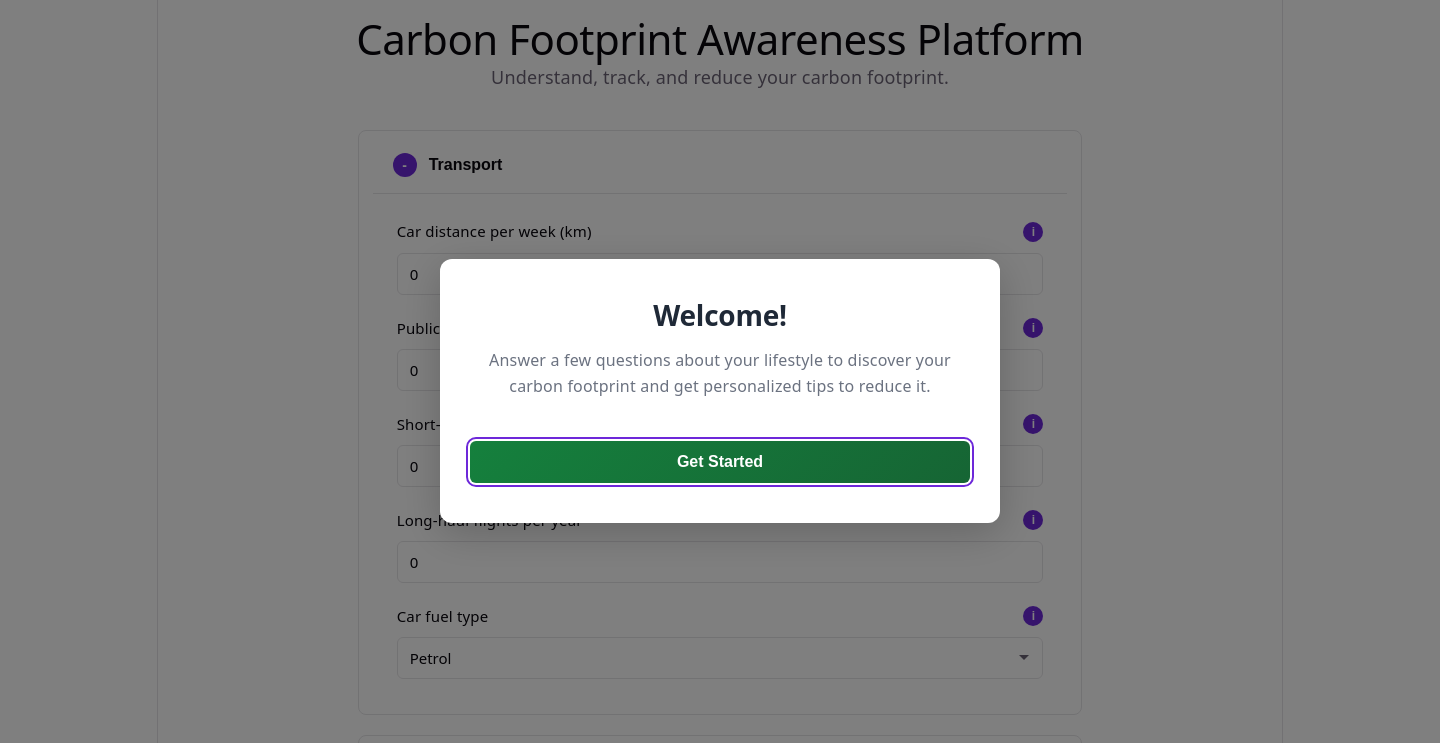
App Integration Tests › should show validation error for out-of-range car distance
Click the button "Get Started".
click(720, 462)  # box [470,441,970,483]
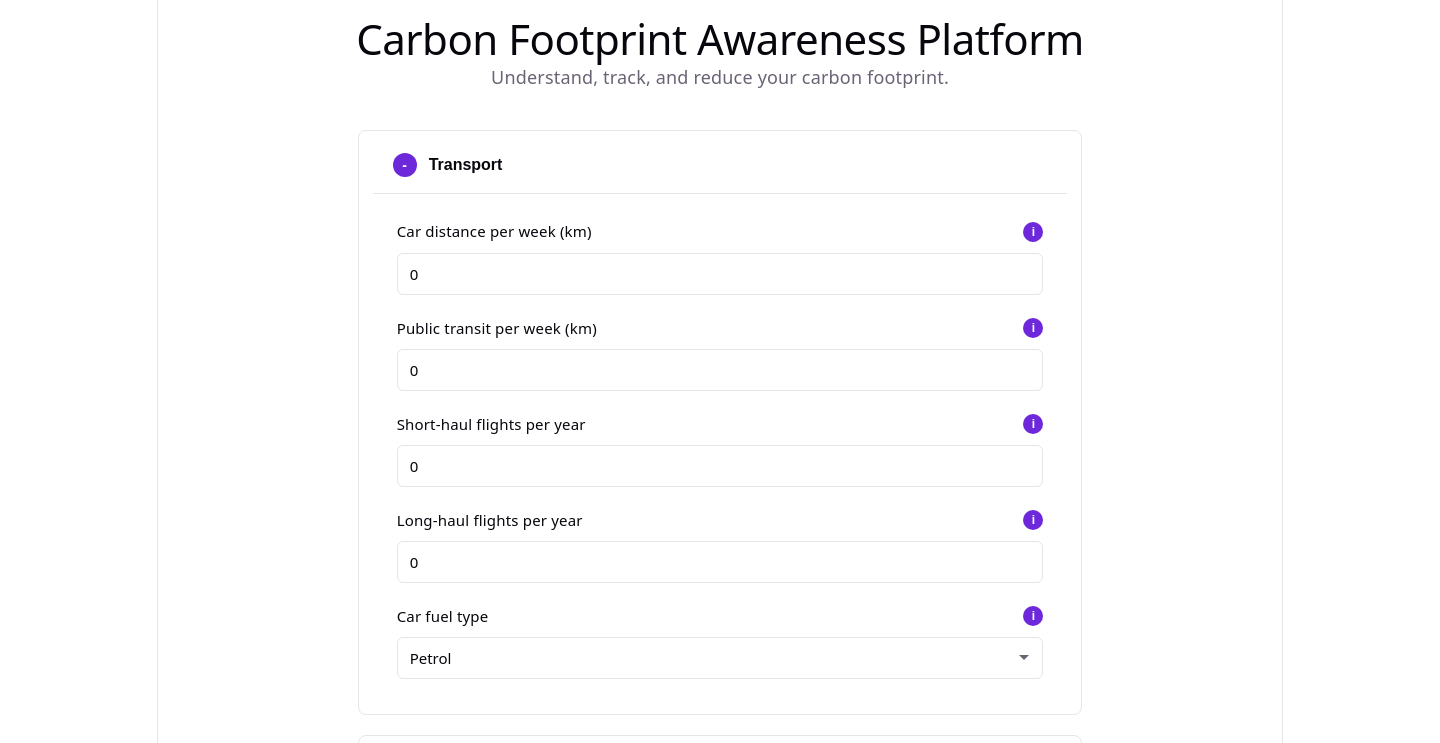
Replace the text in the number field labelled "Car distance per week (km)" with "6000" at (720, 274), box [397,253,1043,295]
(page scrolled)
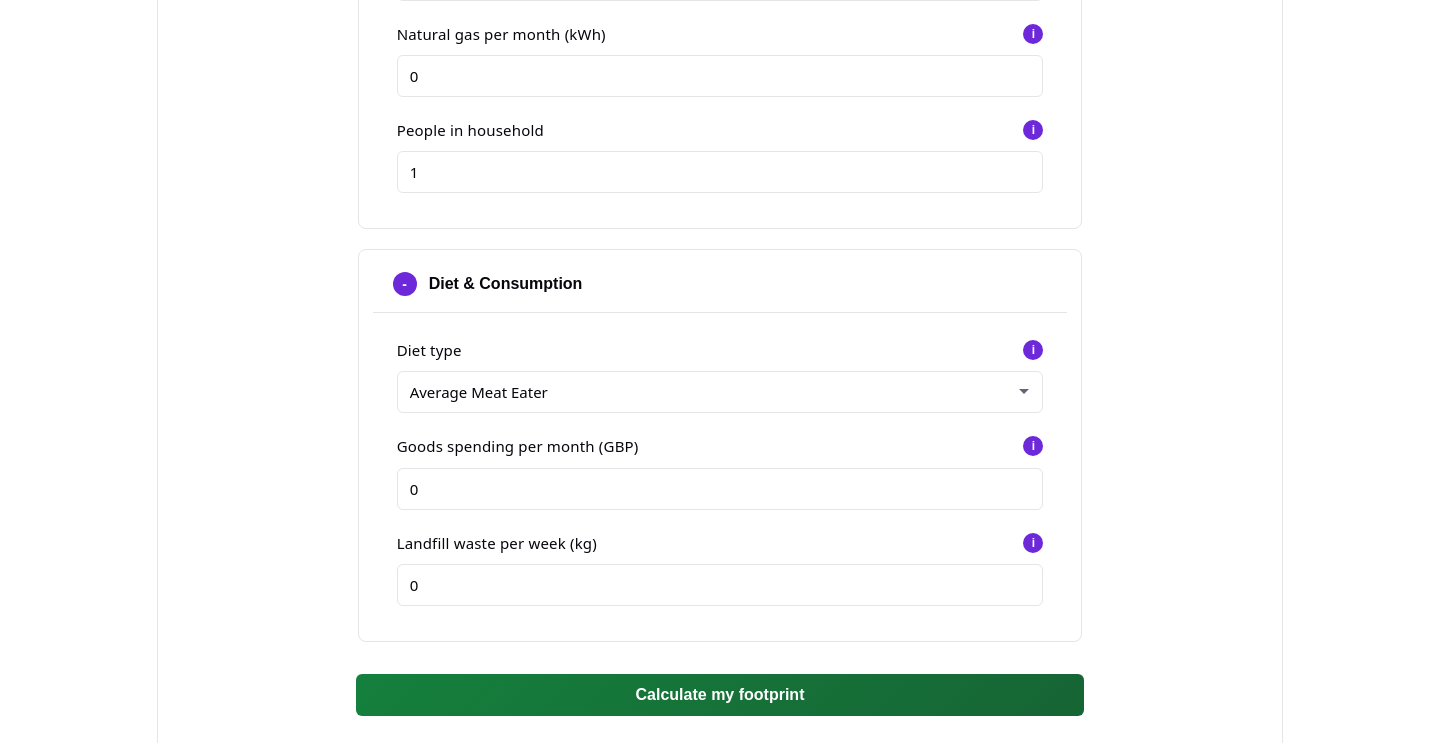
Click the button with aria-label "Calculate my carbon footprint".
click(720, 695)  # box [356,674,1084,716]
(page scrolled)
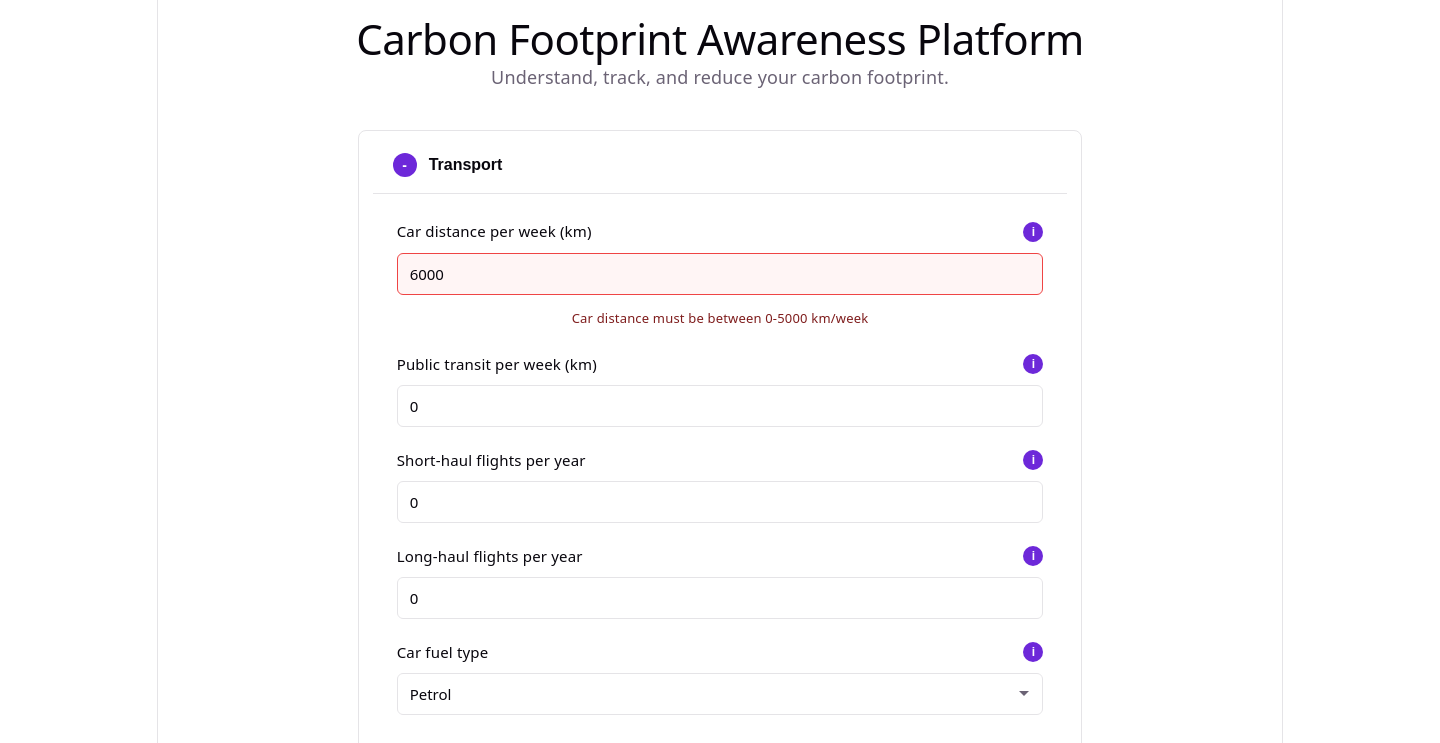
Expected: the text "Car distance must be between 0-5000 km/week" is shown, [572,309,868,327]
